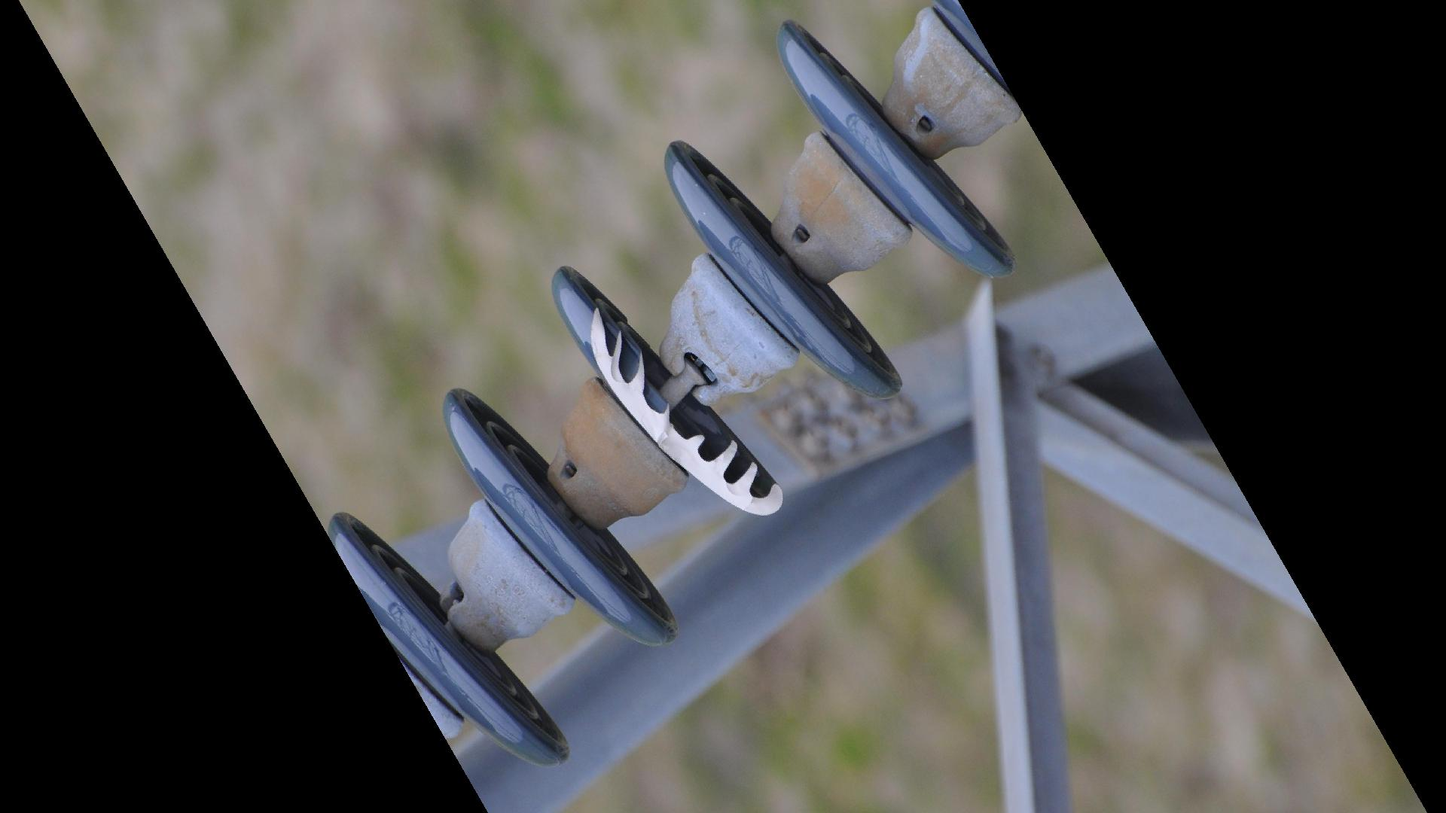insulator: (316, 1, 1024, 776)
insulator_breakage: (577, 297, 792, 524)
